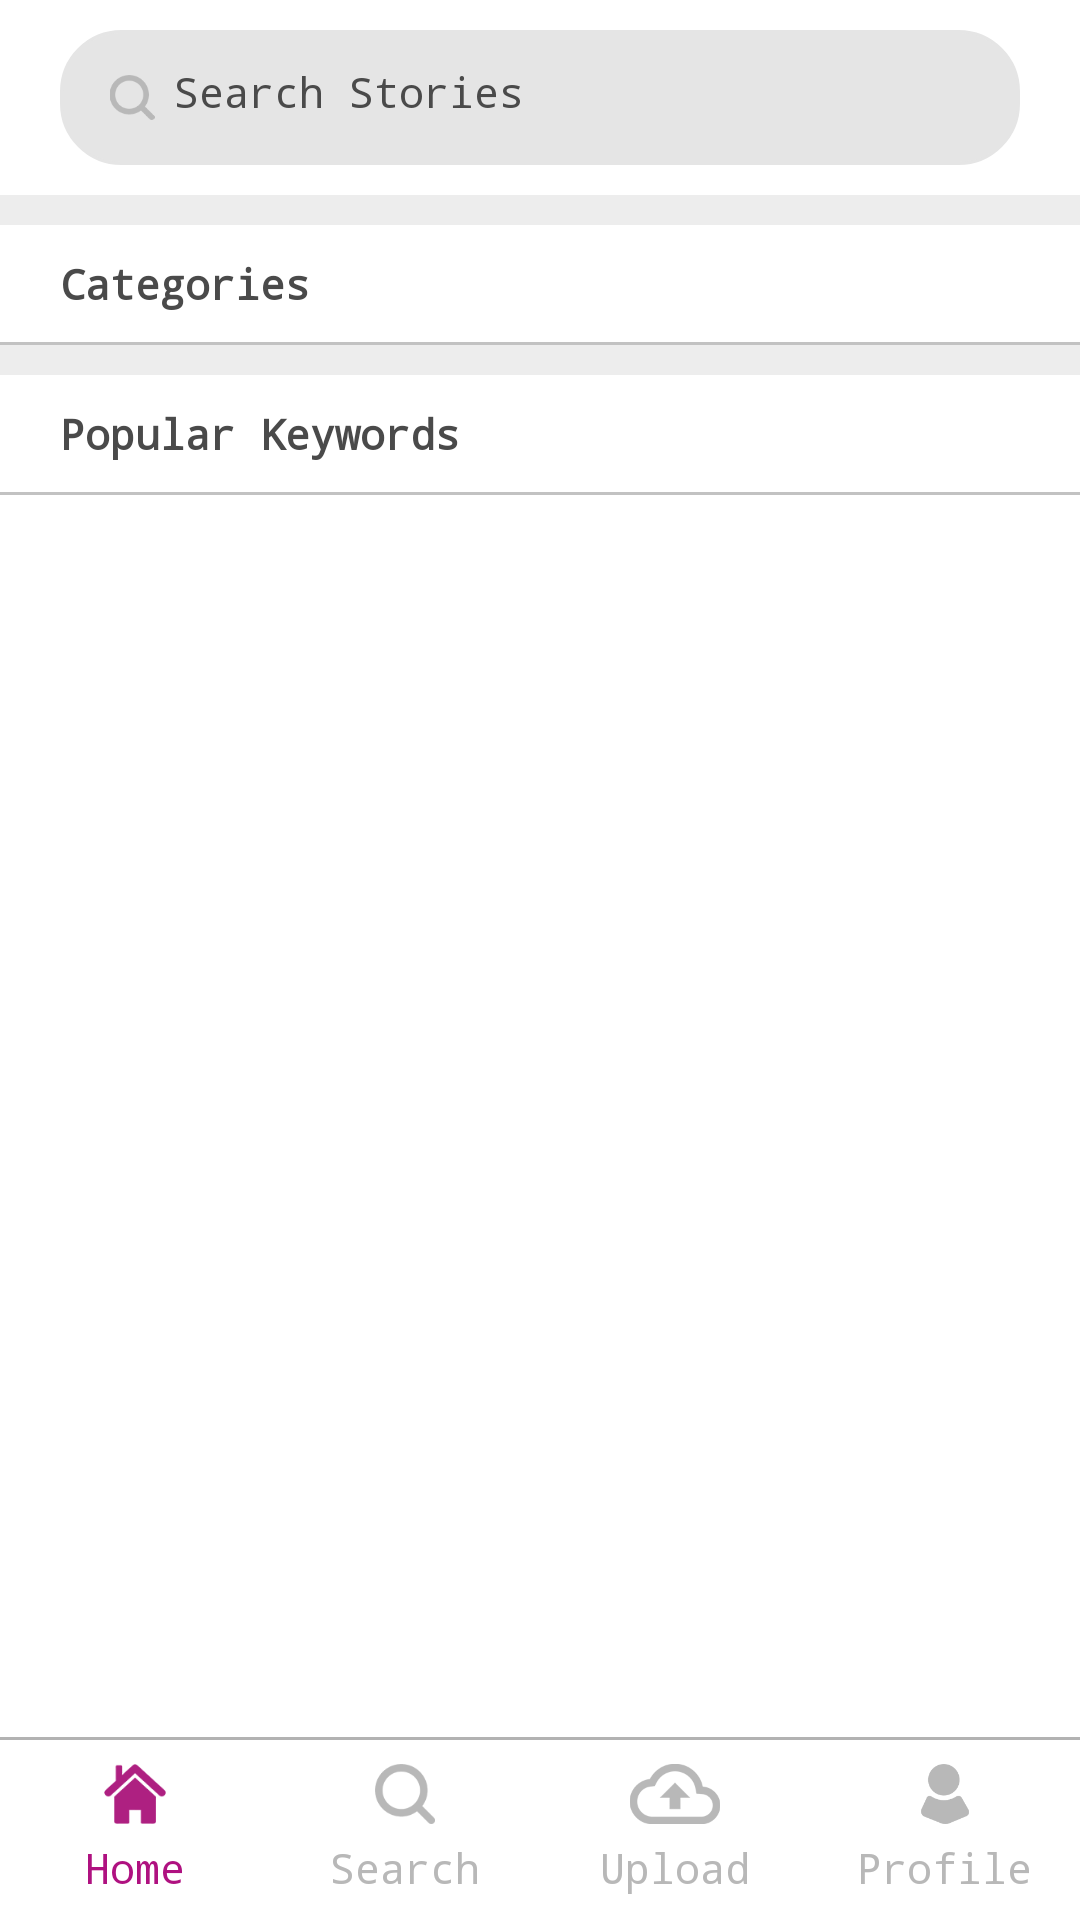

Icon bounding boxes for this 1080 x 1920 phone screenshot, format (x1, y1, x2, y2):
user: (921, 1764, 969, 1824)
